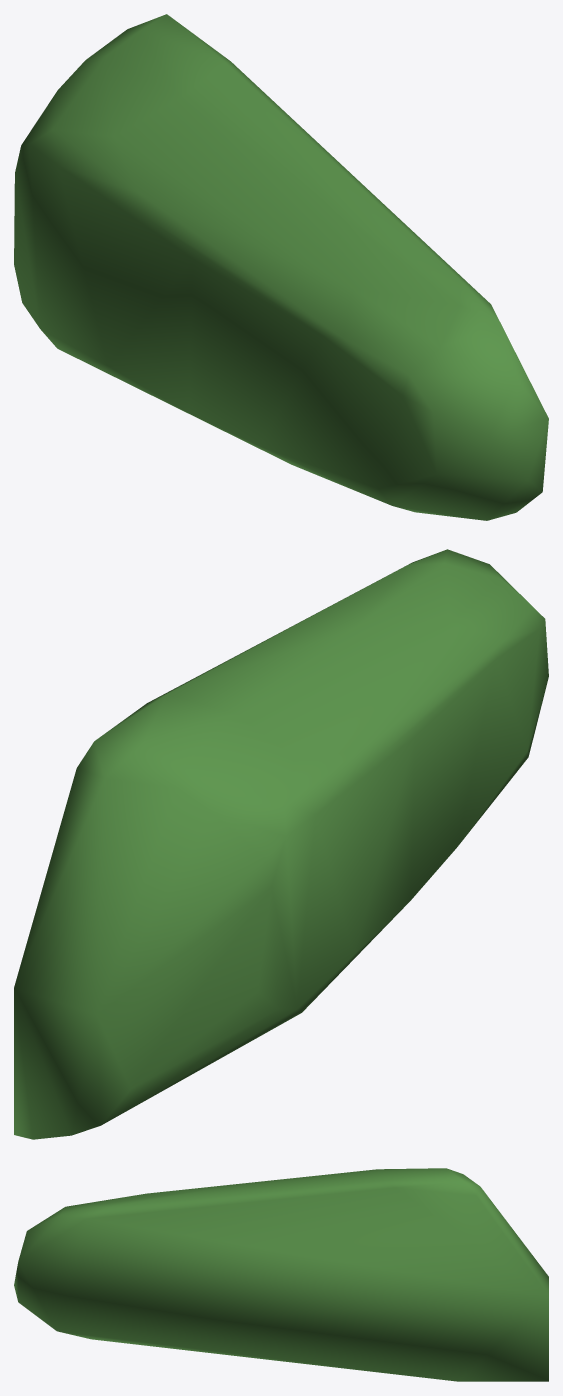
Rendered from finger.obj.
3 views of the same model, one above another, from view 1: azimuth 30°, elevation 25°; view 2: azimuth 150°, elevation 25°; view 3: azimuth 270°, elevation 25° (orthographic). The views are drawn at different scales.
Size of the model in its own units: 0.0114 by 0.0215 by 0.0526.
